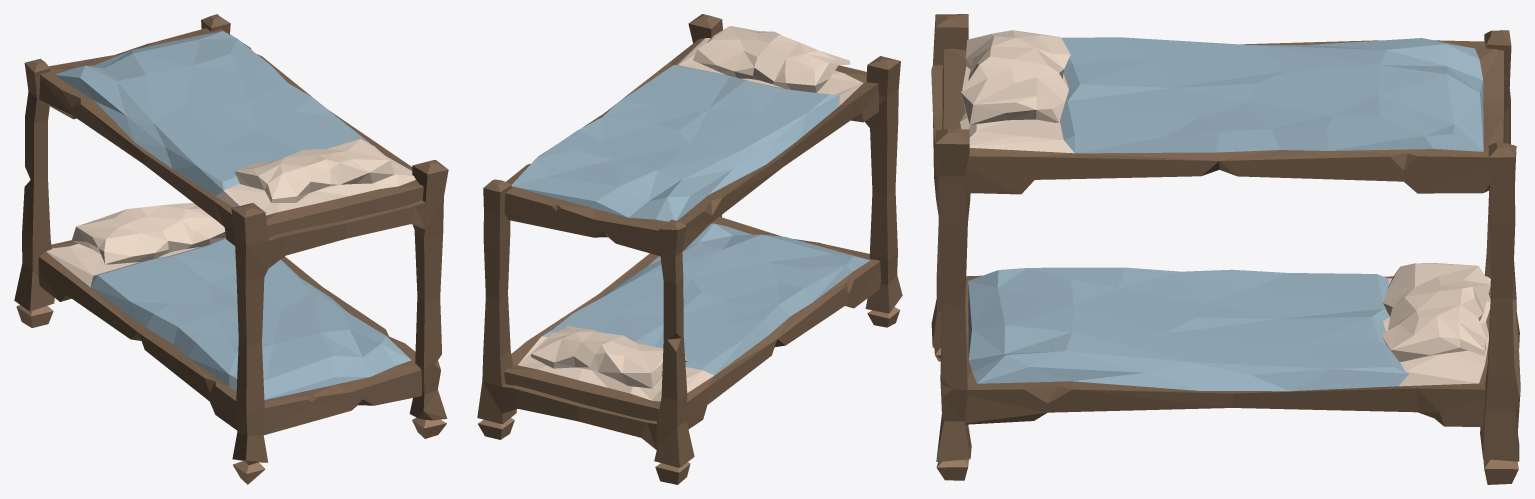
The model's file is DoubleBed_Blue.fbx.
3 renders of one model, left to right at view 1: azimuth 30°, elevation 25°; view 2: azimuth 150°, elevation 25°; view 3: azimuth 270°, elevation 25°, orthographic. The views are drawn at different scales.
Visible parts, largest first — view 1: DoubleBed_Blue; view 2: DoubleBed_Blue; view 3: DoubleBed_Blue.
Part boxes in pixels (x1,y1,x2,y2): DoubleBed_Blue: (14,14,448,484); DoubleBed_Blue: (477,14,902,484); DoubleBed_Blue: (931,14,1520,484).
Size of the model in its own units: 2.81 by 3.72 by 5.39.
